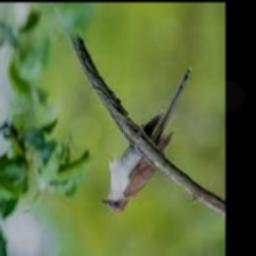Cuckoo: (102, 68, 192, 213)
